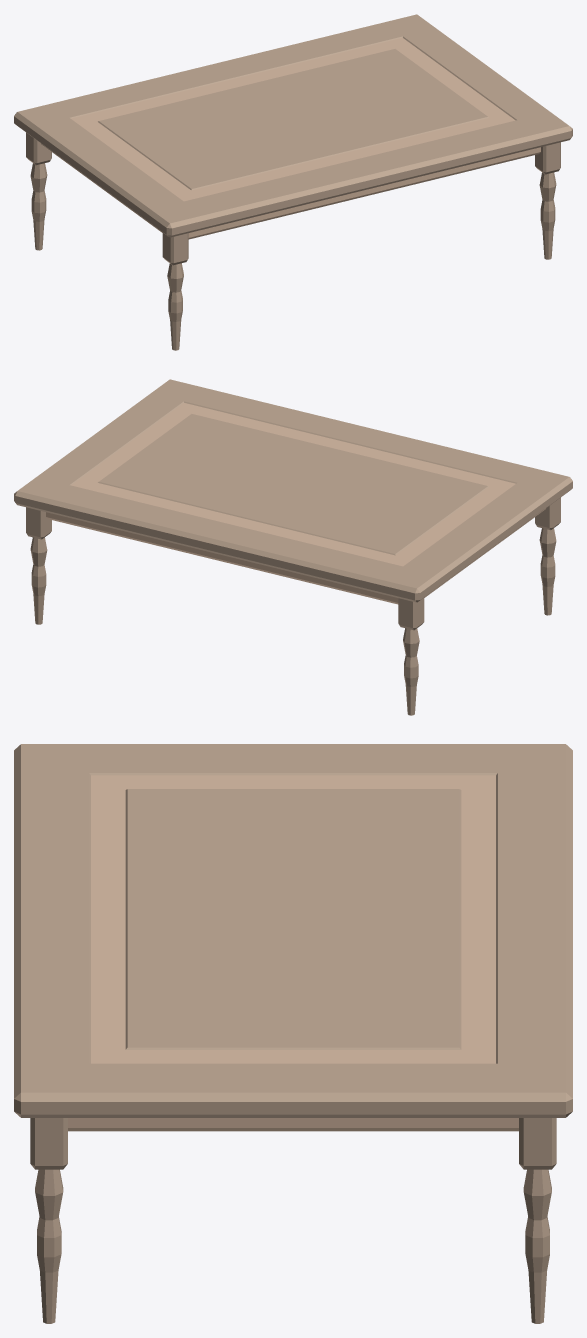
Rendered from Prop_Dining_Room_Table_Rectangle.fbx.
3 views of the same model, one above another, from view 1: azimuth 30°, elevation 25°; view 2: azimuth 150°, elevation 25°; view 3: azimuth 270°, elevation 25° (orthographic). The views are drawn at different scales.
Visible parts, largest first — view 1: object1.016; view 2: object1.016; view 3: object1.016.
Part boxes in pixels (x1,y1,x2,y2): object1.016: (14, 14, 572, 350); object1.016: (14, 379, 572, 715); object1.016: (14, 744, 572, 1323).
Bounding box in the file's own units: 300 × 95 × 200.
